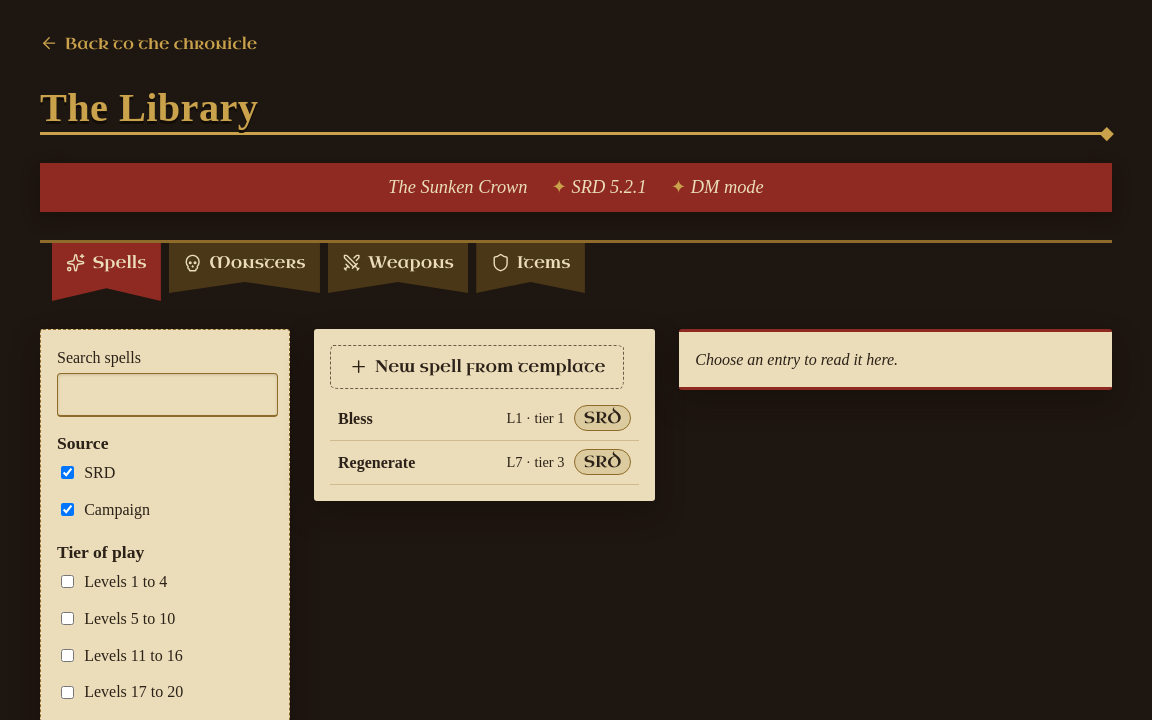
Test: the spells shelf › says so when the filters leave nothing, and when the campaign shelf is empty
This screenshot has width=1152, height=720.
expect the text "Bless" is shown: met, box [338, 410, 373, 427]
Type "zzz" into the search field labelled "Search spells".
click(168, 395); type("zzz")  # box [57, 373, 278, 417]
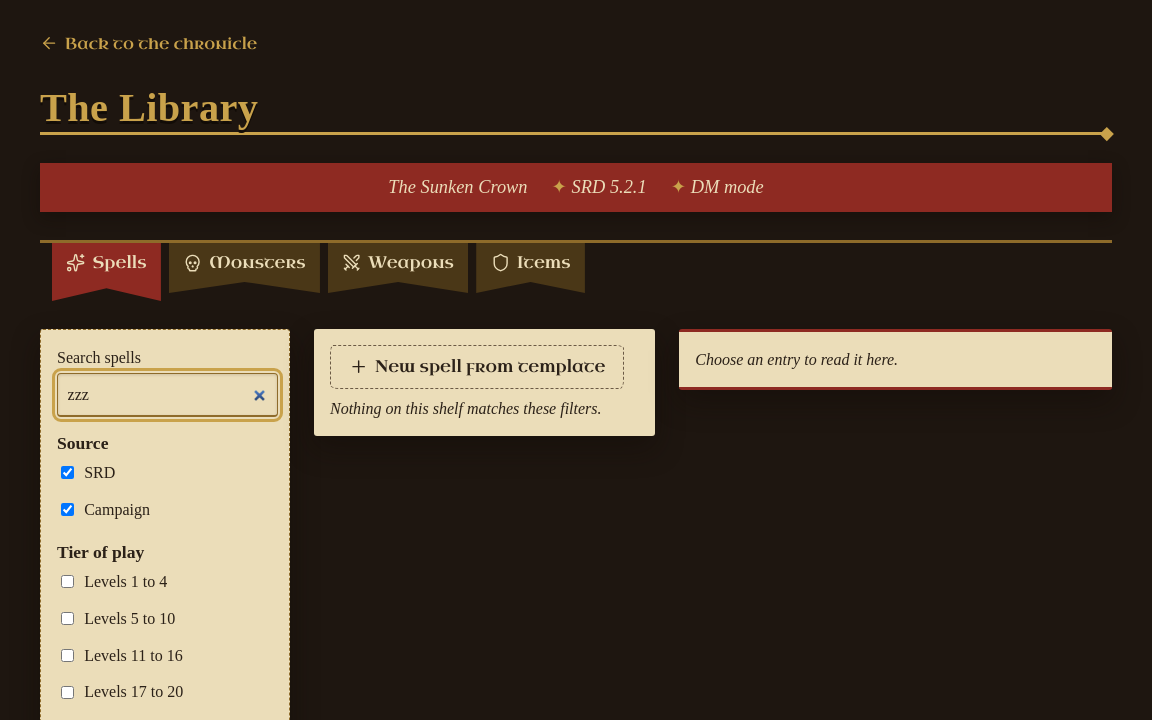
expect the text "Nothing on this shelf matches these filters." is shown: met, box [330, 397, 639, 420]
Click the checkbox labelled "SRD".
click(68, 473)  # box [61, 466, 74, 480]
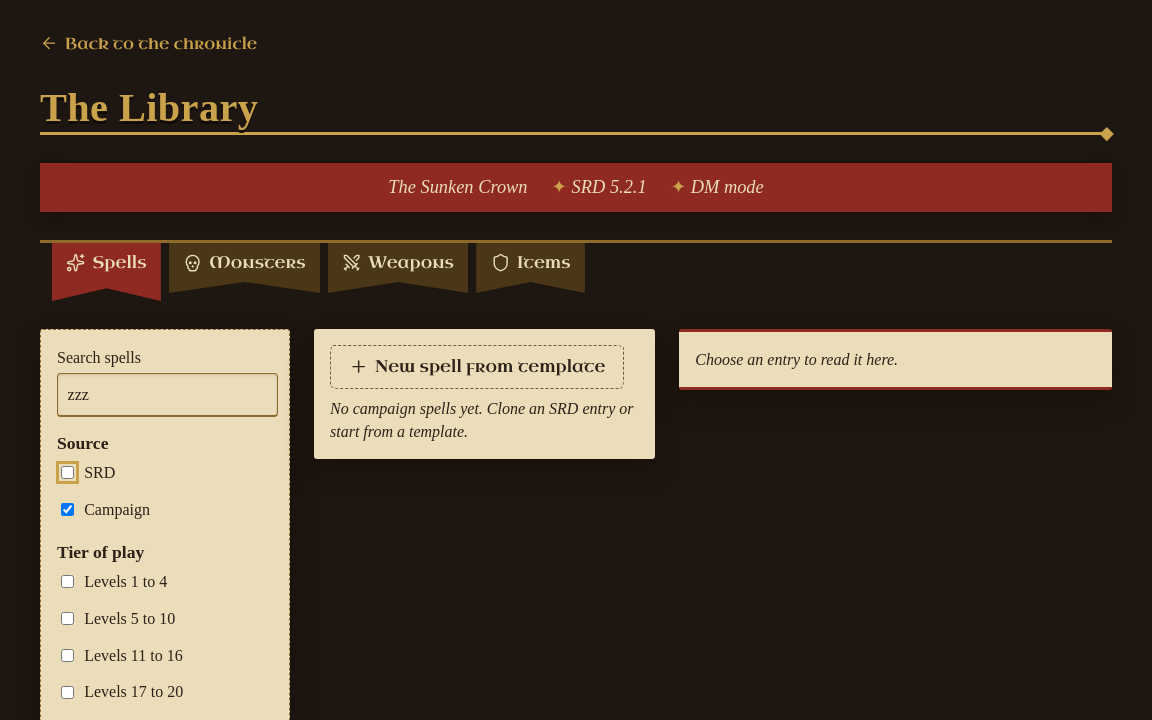
expect the text "No campaign spells yet" is shown: met, box [330, 400, 634, 440]
